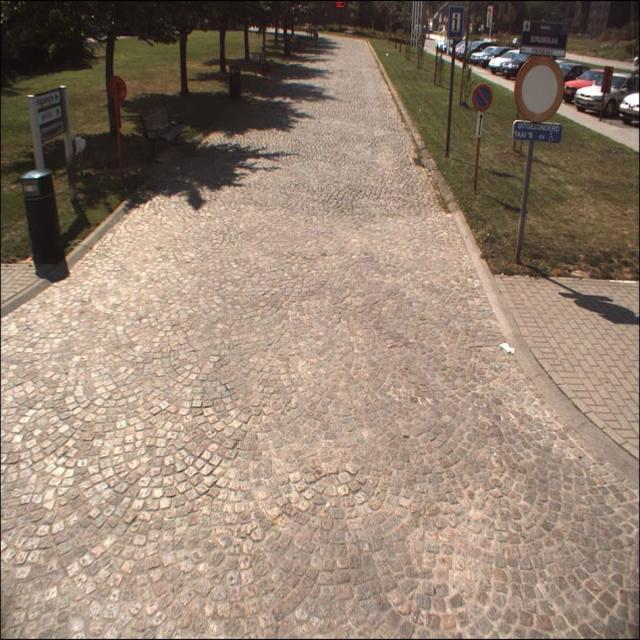parkyasak: (472, 84, 493, 112)
